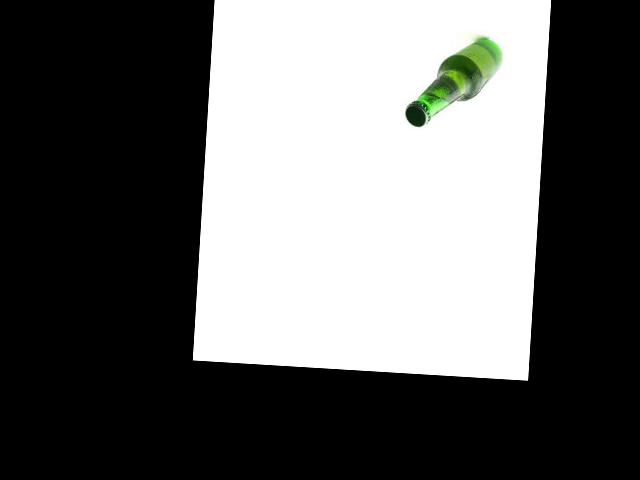beer: (404, 33, 503, 131)
